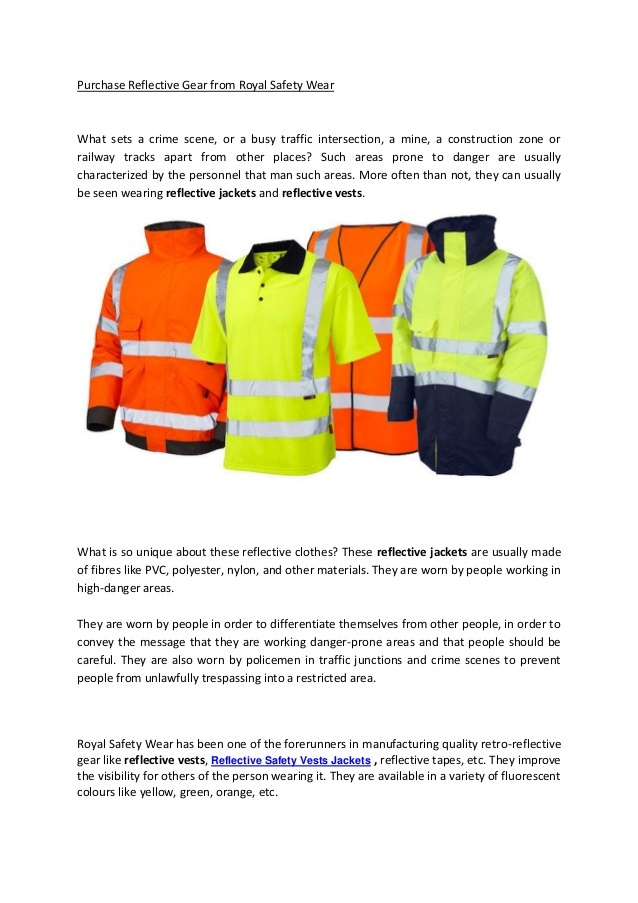safety vest: (403, 223, 547, 477), (89, 220, 227, 448), (218, 239, 342, 473), (308, 217, 427, 457)
